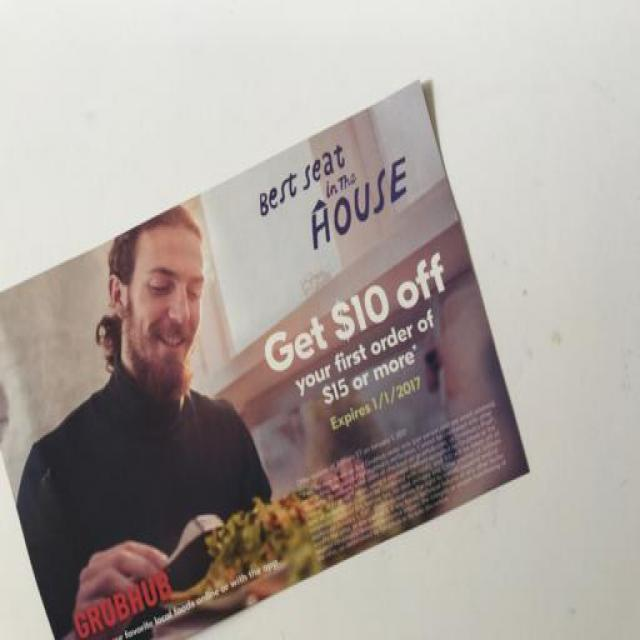paper: (1, 82, 534, 639)
